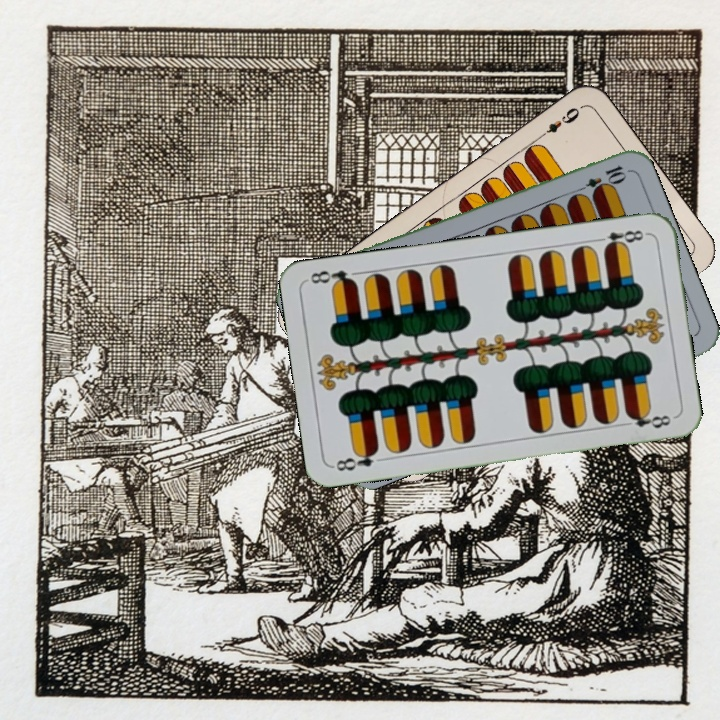E10: (571, 161, 629, 197)
E8: (591, 226, 650, 253), (330, 445, 381, 474)
E9: (533, 102, 584, 143)
